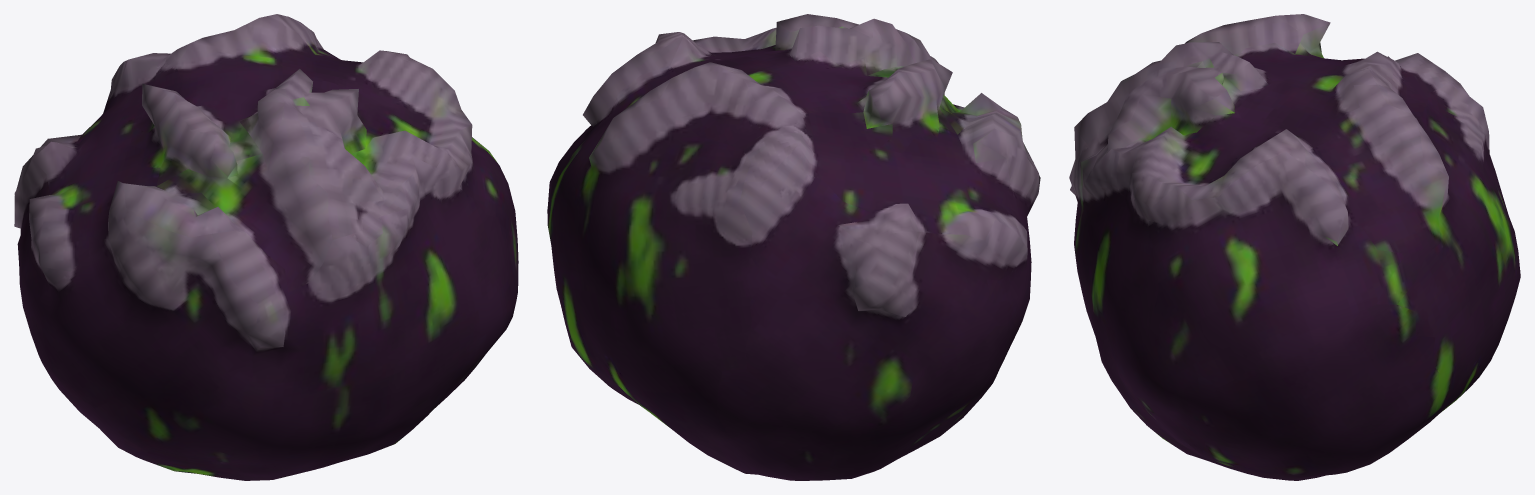
File: nest-mound-a.glb
The picture shows the model from 3 angles, left to right: view 1: azimuth 30°, elevation 25°; view 2: azimuth 150°, elevation 25°; view 3: azimuth 270°, elevation 25°; orthographic projection.
Parts seen in each view (by area): view 1: Nest_Mound_A; view 2: Nest_Mound_A; view 3: Nest_Mound_A.
Part boxes in pixels (<box>): Nest_Mound_A: <box>14,14,518,480</box>; Nest_Mound_A: <box>547,14,1040,480</box>; Nest_Mound_A: <box>1069,14,1520,480</box>.
Bounding box in the file's own units: 2.93 × 2.5 × 2.53.
Materials: 1 (1 with a texture image).
